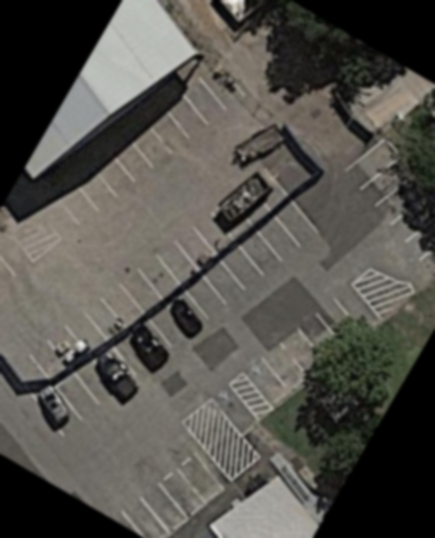parkingspot: (25, 196, 323, 438), (47, 57, 249, 230), (61, 209, 238, 354), (241, 280, 384, 409), (341, 135, 435, 264), (109, 445, 229, 538), (207, 380, 261, 437), (0, 225, 37, 292)
